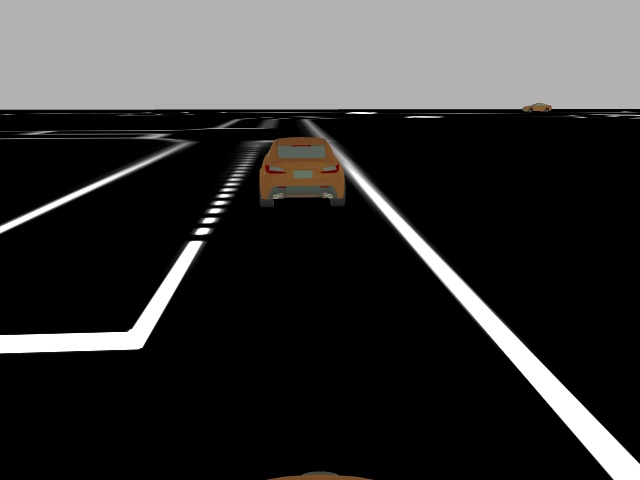obstacle_car: (255, 136, 350, 209)
